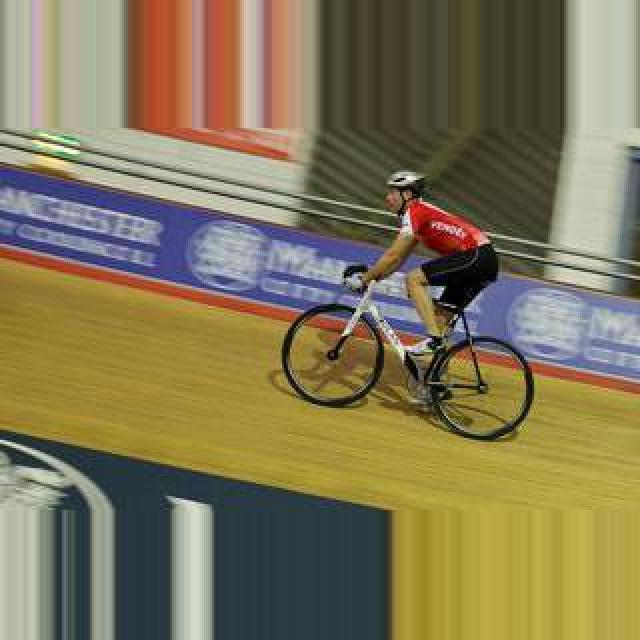MC-Bike: (350, 170, 498, 356)
Person: (283, 263, 537, 439)
